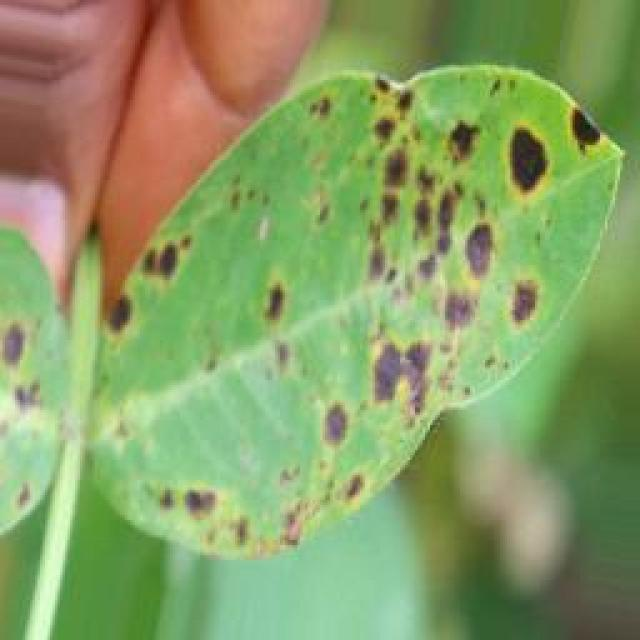Yellowish: (0, 24, 640, 574)
